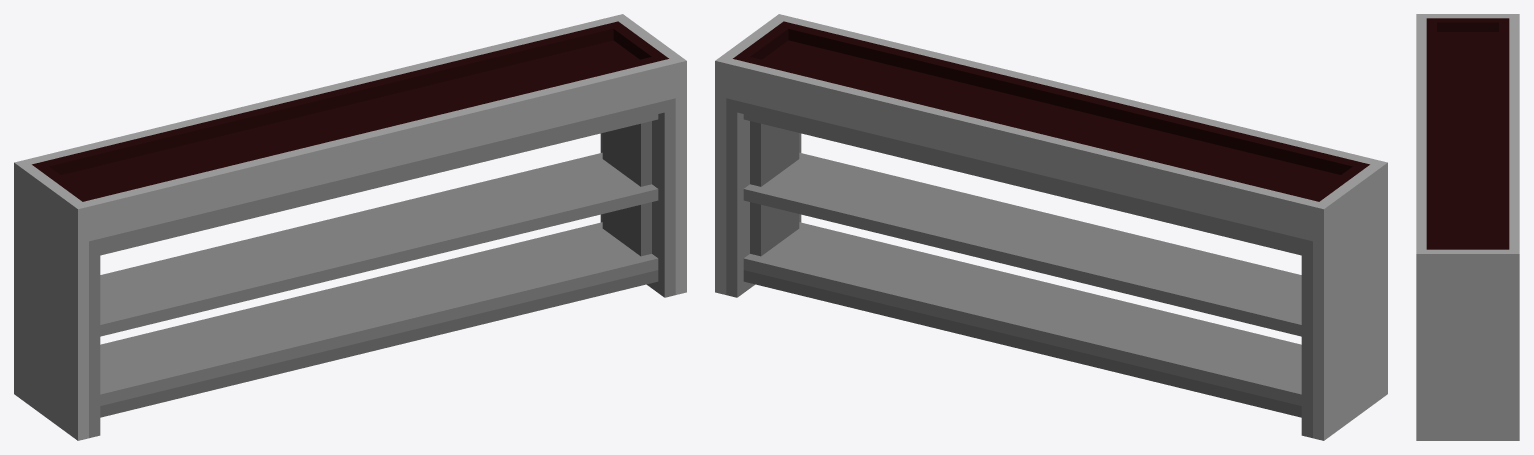
File: Green House Table 2.obj
3 renders of one model, left to right at view 1: azimuth 30°, elevation 25°; view 2: azimuth 150°, elevation 25°; view 3: azimuth 270°, elevation 25°, orthographic. The views are drawn at different scales.
Bounding box in the file's own units: 55 × 20 × 10.
Materials: 1 (1 with a texture image).
